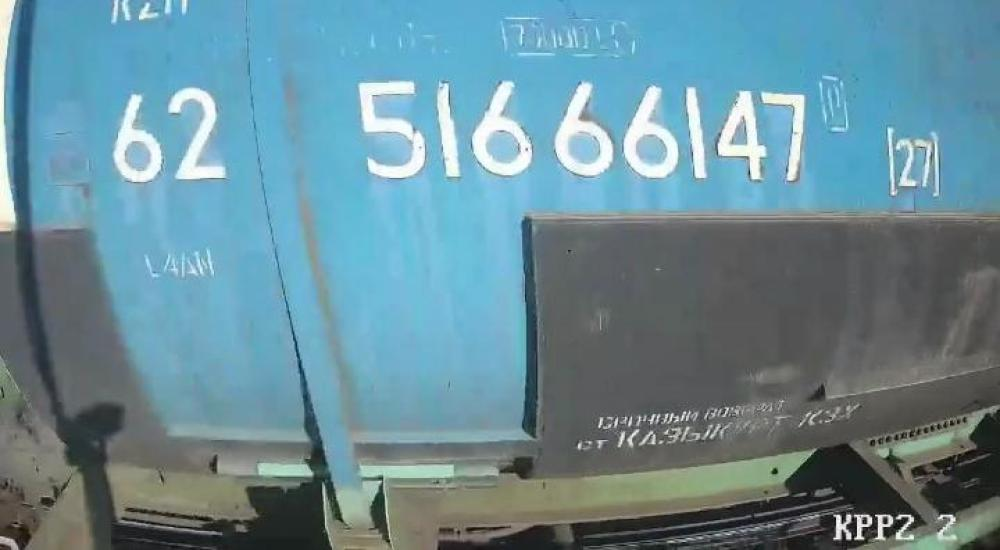Wagon-number: (352, 74, 814, 188)
